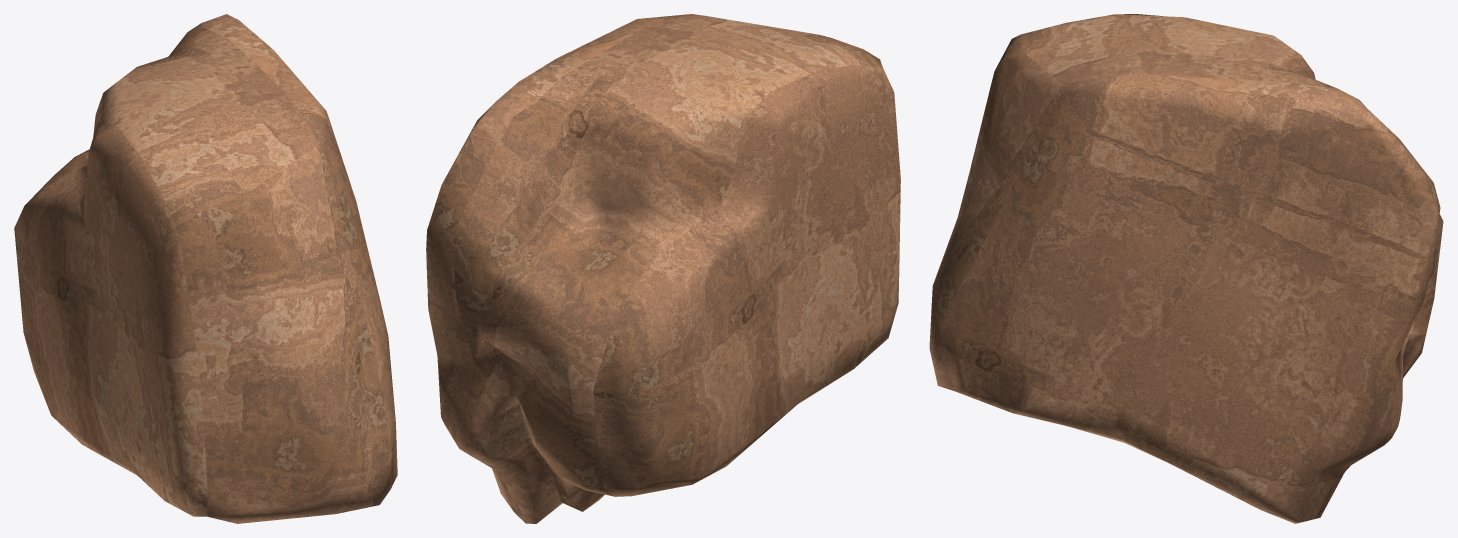
The model's file is Ob_Rock3_RC.fbx.
3 renders of one model, left to right at view 1: azimuth 30°, elevation 25°; view 2: azimuth 150°, elevation 25°; view 3: azimuth 270°, elevation 25°, orthographic. The views are drawn at different scales.
Parts seen in each view (by area): view 1: Ob_Rock3_RC; view 2: Ob_Rock3_RC; view 3: Ob_Rock3_RC.
Boxes of the visible parts, bbox=[...] form: Ob_Rock3_RC: bbox=[14, 14, 397, 523]; Ob_Rock3_RC: bbox=[426, 14, 900, 523]; Ob_Rock3_RC: bbox=[929, 14, 1443, 523].
Size of the model in its own units: 731 by 1117 by 1208.
